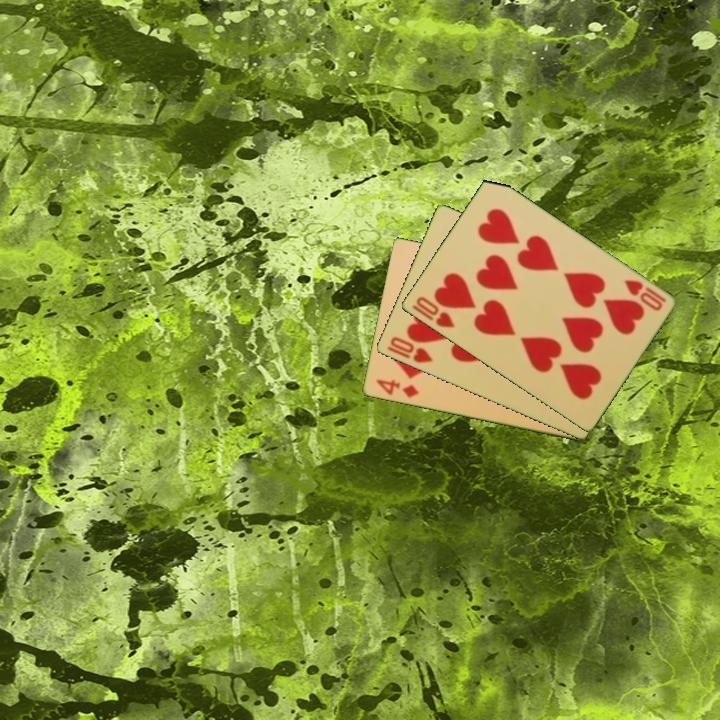10h: (408, 293, 457, 331), (620, 276, 669, 314), (383, 333, 435, 366)
4d: (372, 376, 421, 401)
